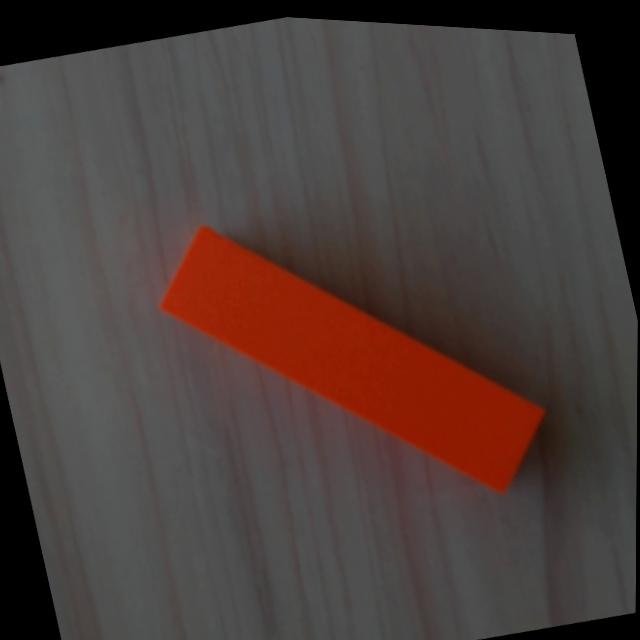Balok-Jingga-1002525: (155, 224, 546, 493)
